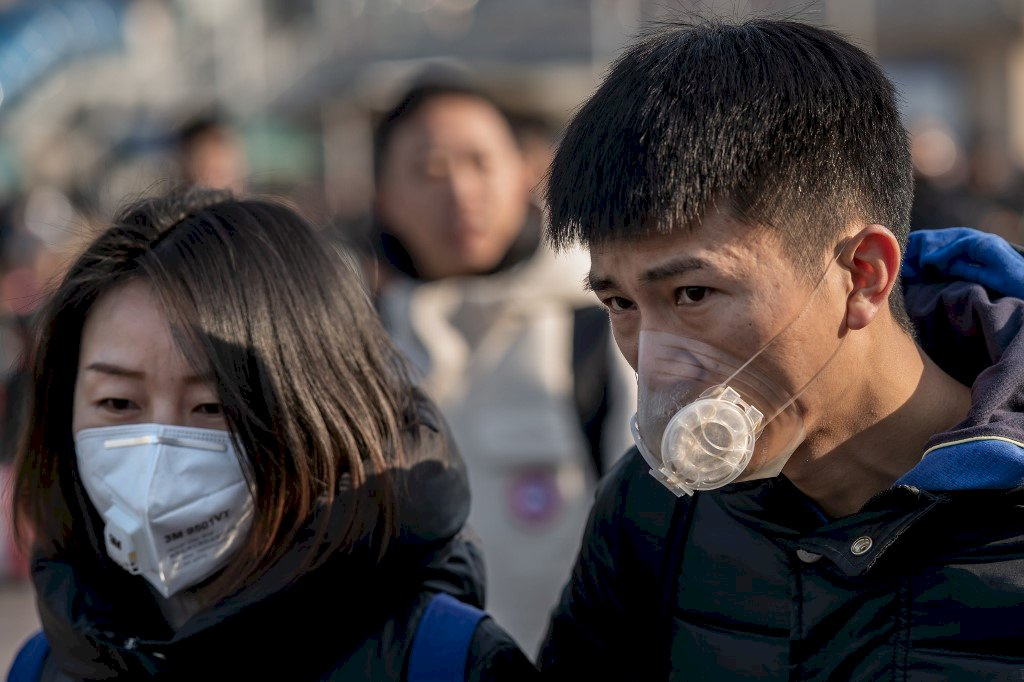Mask: (577, 174, 899, 495), (69, 275, 300, 595)
